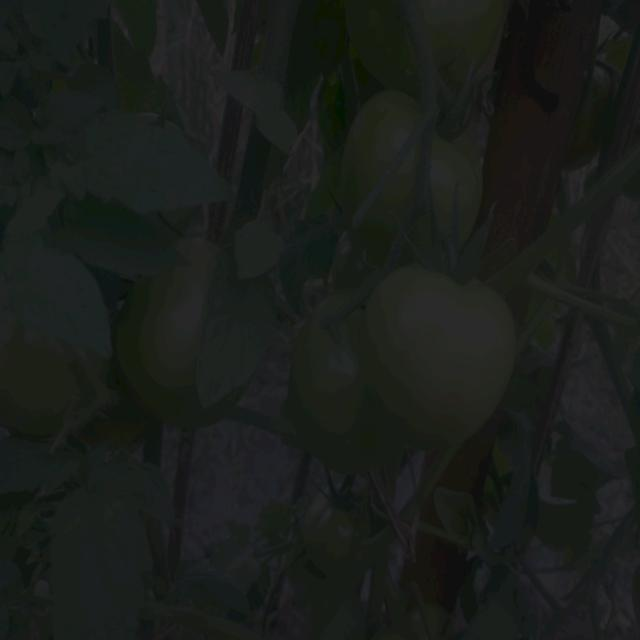tomato: (364, 265, 510, 445), (128, 243, 207, 423), (1, 315, 108, 440), (298, 290, 374, 437), (432, 100, 493, 248), (354, 100, 421, 234), (432, 1, 515, 95), (353, 7, 427, 96), (584, 26, 625, 159), (314, 477, 375, 562)
